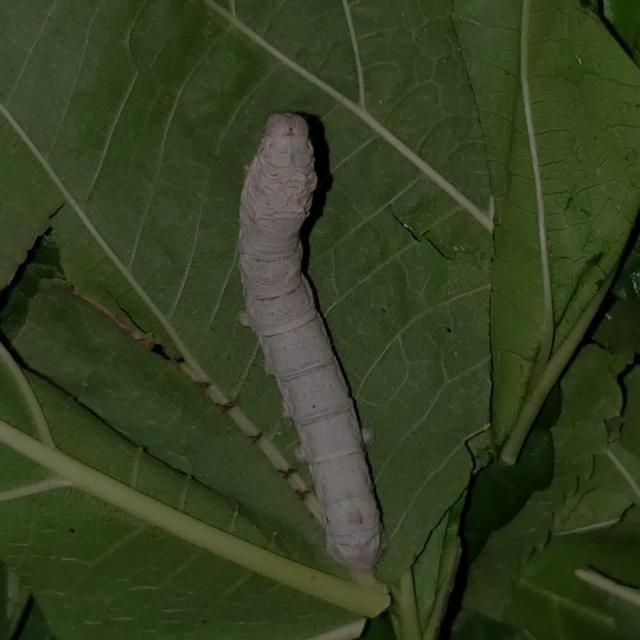Healthy: (221, 95, 413, 580)
